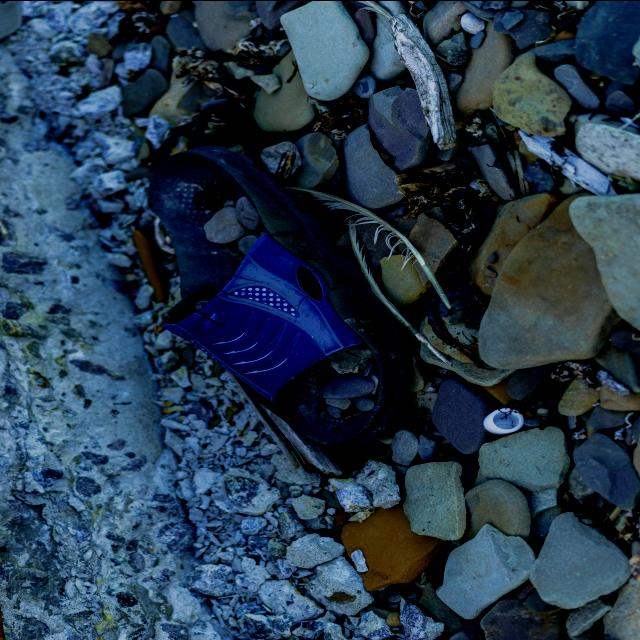Shoe: (151, 144, 413, 447)
